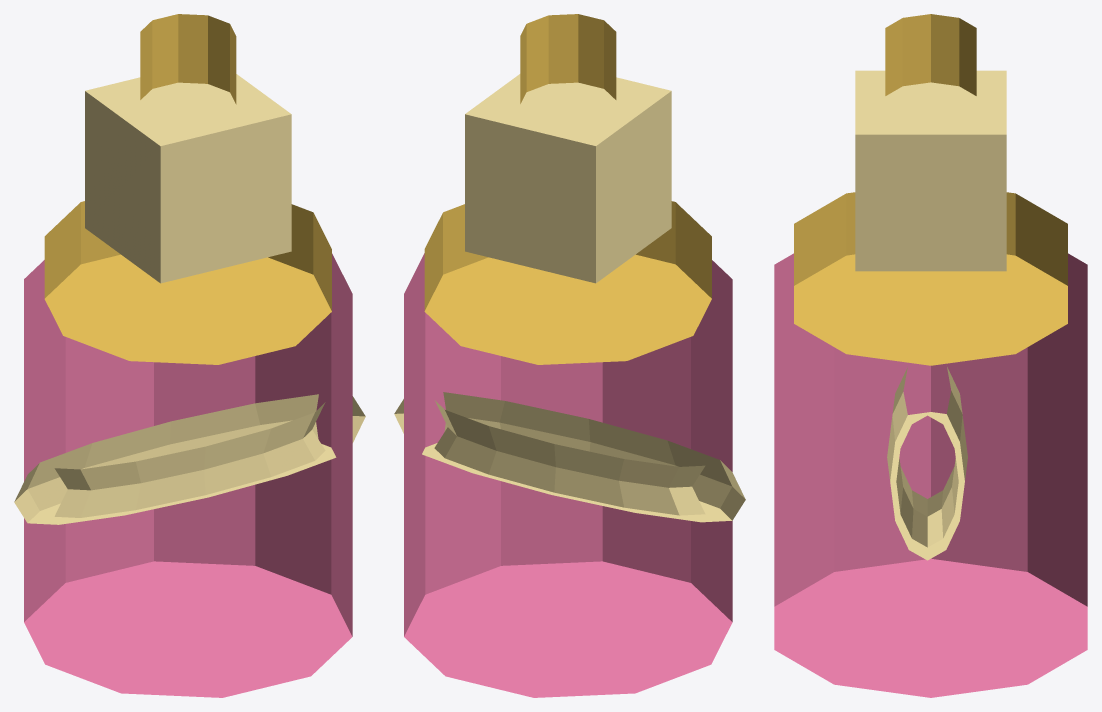
The model's file is minglora_perfume.gltf.
3 views of the same model, side by side, from view 1: azimuth 30°, elevation 25°; view 2: azimuth 150°, elevation 25°; view 3: azimuth 270°, elevation 25° (orthographic).
Visible parts, largest first — view 1: minglora_perfume0, minglora_perfume2, minglora_perfume1, minglora_perfume4, minglora_perfume3; view 2: minglora_perfume0, minglora_perfume2, minglora_perfume1, minglora_perfume4, minglora_perfume3; view 3: minglora_perfume0, minglora_perfume1, minglora_perfume2, minglora_perfume4, minglora_perfume3.
Boxes of the visible parts, left/top/right/bottom form: minglora_perfume0: left=24, top=253, right=352, bottom=697; minglora_perfume2: left=85, top=74, right=291, bottom=283; minglora_perfume1: left=44, top=201, right=331, bottom=364; minglora_perfume4: left=14, top=394, right=365, bottom=524; minglora_perfume3: left=140, top=14, right=236, bottom=104; minglora_perfume0: left=404, top=253, right=732, bottom=697; minglora_perfume2: left=465, top=74, right=671, bottom=283; minglora_perfume1: left=424, top=201, right=711, bottom=364; minglora_perfume4: left=394, top=392, right=745, bottom=522; minglora_perfume3: left=520, top=14, right=616, bottom=103; minglora_perfume0: left=774, top=253, right=1087, bottom=697; minglora_perfume1: left=794, top=192, right=1067, bottom=365; minglora_perfume2: left=855, top=70, right=1006, bottom=271; minglora_perfume4: left=887, top=367, right=967, bottom=560; minglora_perfume3: left=885, top=14, right=976, bottom=95.
Size of the model in its own units: 1.18 by 1.91 by 0.913.
